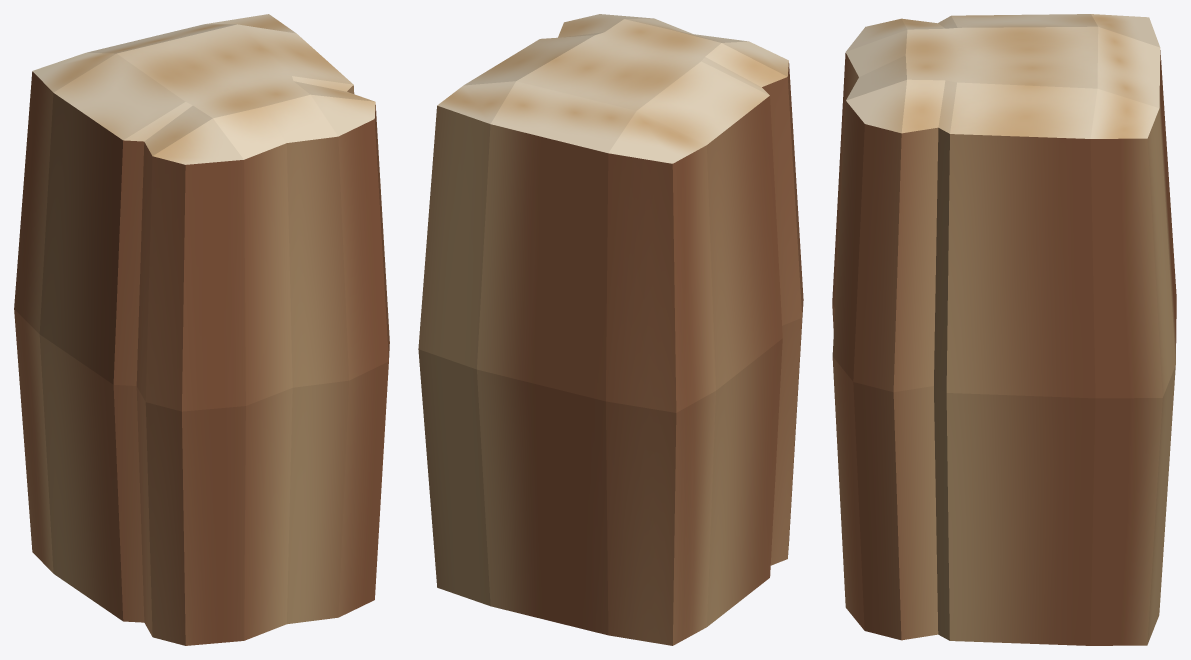
The model's file is Loaf_bread_5.fbx.
3 views of the same model, side by side, from view 1: azimuth 30°, elevation 25°; view 2: azimuth 150°, elevation 25°; view 3: azimuth 270°, elevation 25° (orthographic). The views are drawn at different scales.
Parts seen in each view (by area): view 1: Cube; view 2: Cube; view 3: Cube.
Part boxes in pixels (bbox=[...]): Cube: bbox=[14, 14, 389, 645]; Cube: bbox=[418, 14, 803, 645]; Cube: bbox=[832, 14, 1176, 645].
Size of the model in its own units: 460 by 863 by 490.
